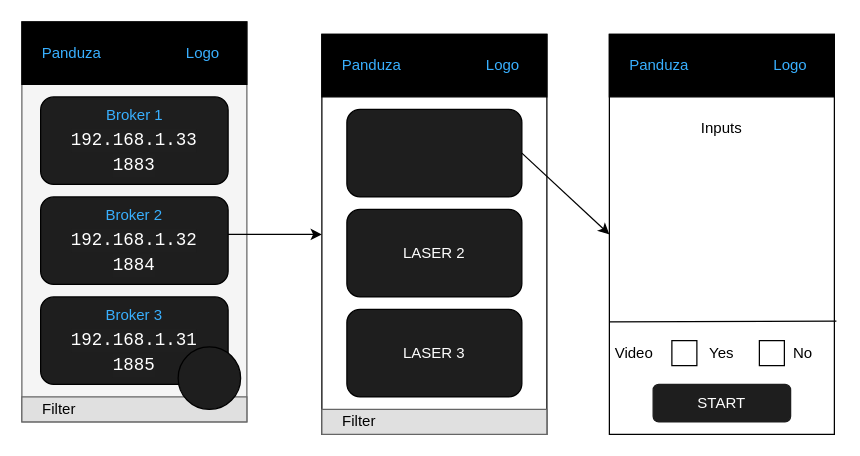
This 860x456 diagram has some shape labels left out. Here are the shapes that lost their labels. From the top down, the box of each, then its label:
(346, 108, 522, 197): LASER 1
(177, 346, 241, 409): Cloud
